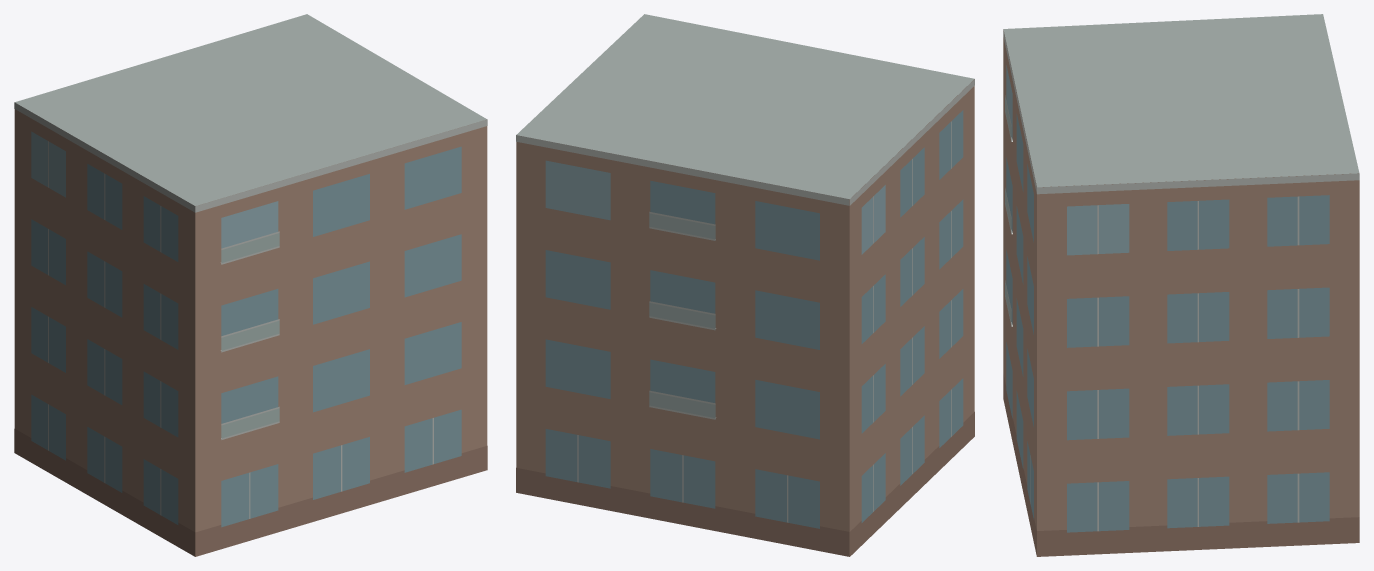
The model's file is survey-upis-32697986.glb.
3 views of the same model, side by side, from view 1: azimuth 30°, elevation 25°; view 2: azimuth 150°, elevation 25°; view 3: azimuth 270°, elevation 25° (orthographic). The views are drawn at different scales.
Parts seen in each view (by area): view 1: survey-upis-32697986.tmp; view 2: survey-upis-32697986.tmp; view 3: survey-upis-32697986.tmp.
Part boxes in pixels (x1,y1,x2,y2): survey-upis-32697986.tmp: [14, 14, 487, 556]; survey-upis-32697986.tmp: [516, 14, 974, 556]; survey-upis-32697986.tmp: [1003, 14, 1359, 556].
Bounding box in the file's own units: 13.14 × 13.05 × 11.41.
